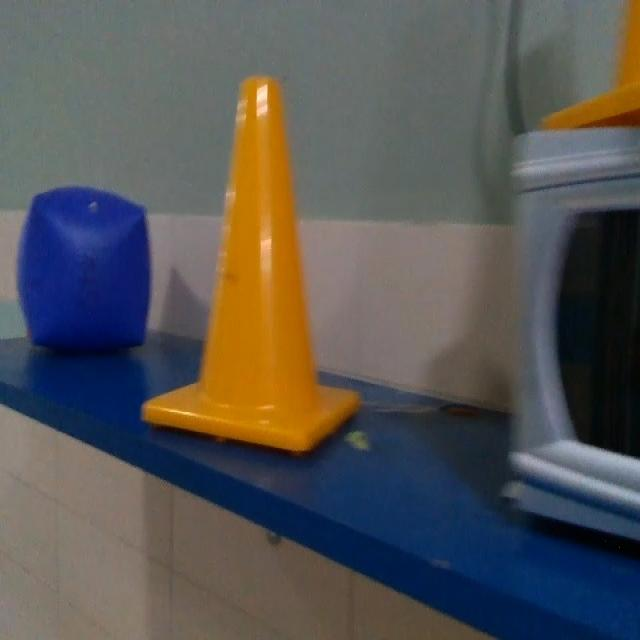cone: (140, 75, 360, 455), (539, 0, 640, 131)
cube: (14, 185, 151, 351)
